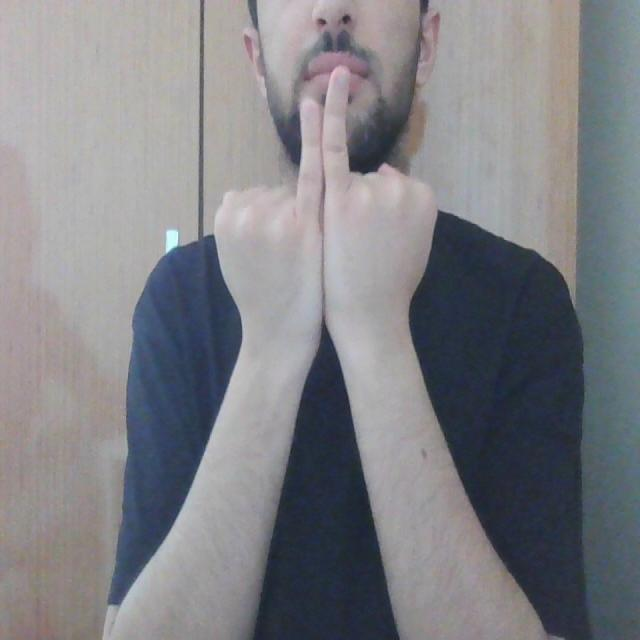Kardes: (206, 57, 445, 363)
